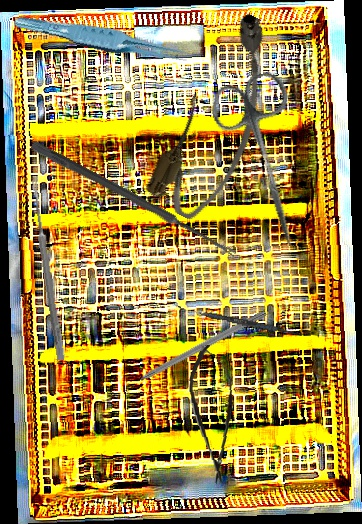Cannula: (140, 6, 301, 229)
Hook Surgical: (118, 308, 268, 393)
Iris Scissors: (204, 68, 331, 257)
Micro Scissor: (185, 342, 242, 486)
Spatula Surgical: (176, 305, 304, 338)
Surgical Spoon: (29, 140, 239, 259), (28, 178, 67, 361)
Tissue Forceps: (12, 2, 196, 78)
